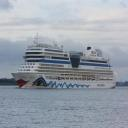cruises: (12, 33, 118, 91)
